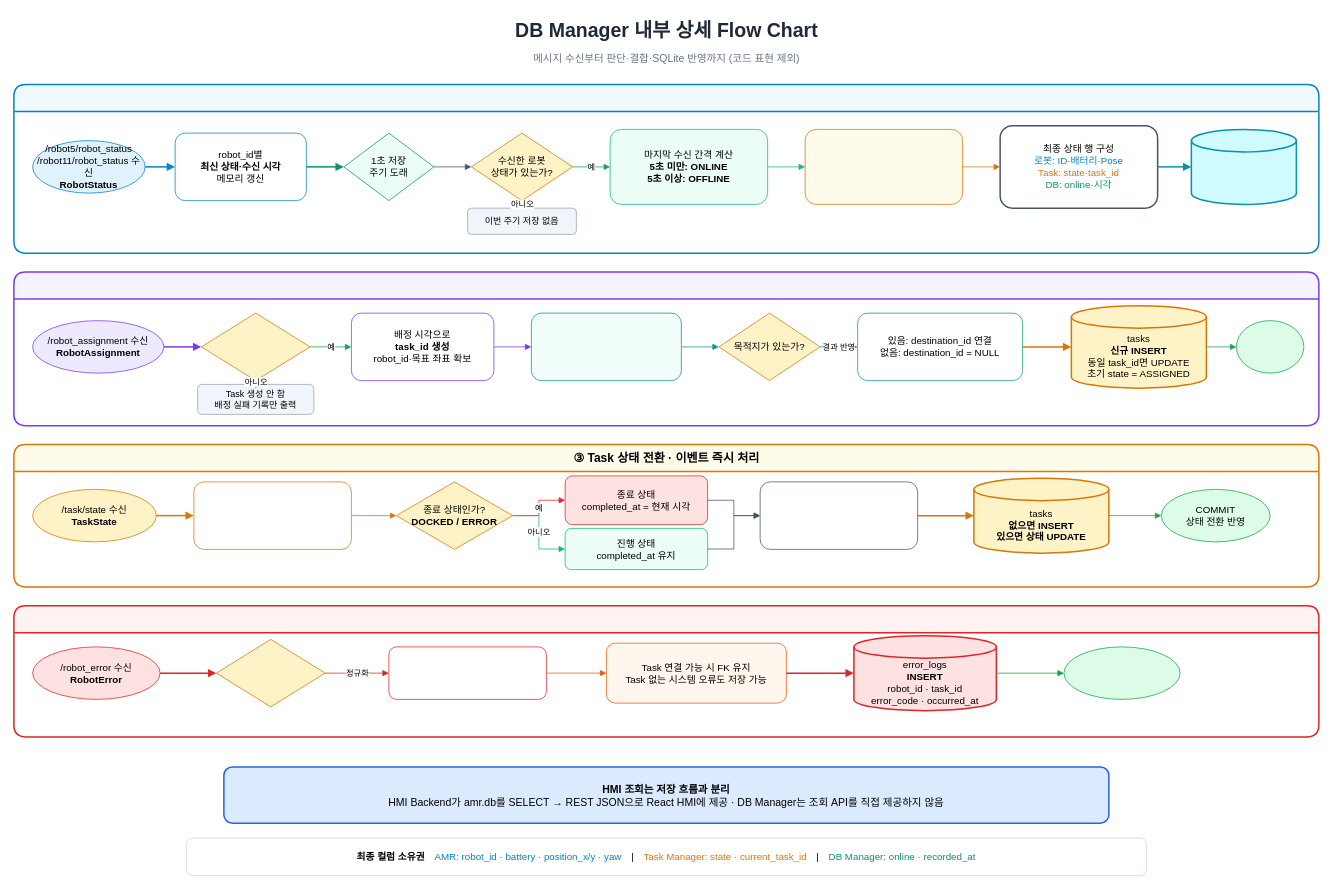
This 1332x889 diagram has some shape labels left out. The box of each missing label's shape, as (x1, y1, x2, y2) in pixels:
COMMIT Task 생성 완료: (1236, 320, 1304, 373)
destinations에서 목표 X·Y 일치 여부 조회: (531, 312, 681, 381)
robot_id별 최신 TaskState 갱신 상태 로그 결합에 사용: (193, 481, 351, 549)
robot_status_logs INSERT + COMMIT: (1190, 128, 1297, 205)
task_id가 있는가?: (216, 639, 325, 707)
① 로봇 상태 로그 · 1초 주기: (13, 83, 1319, 254)
② AMR 배정 결과 · 이벤트 즉시 처리: (13, 271, 1319, 426)
④ 오류 로그 · 이벤트 즉시 처리: (13, 604, 1319, 737)
배정 성공인가? assigned = true: (201, 312, 310, 381)
있음: task_id 유지 없음/빈 문자열: NULL: (388, 646, 546, 699)
저장 데이터 구성 task_id · robot_id · state result = detail: (759, 481, 918, 549)
즉시 COMMIT 오류 기록 완료: (1063, 646, 1180, 699)
최신 TaskState 결합 있음: state·task_id 없음: DOCKED·NULL: (804, 129, 963, 204)
